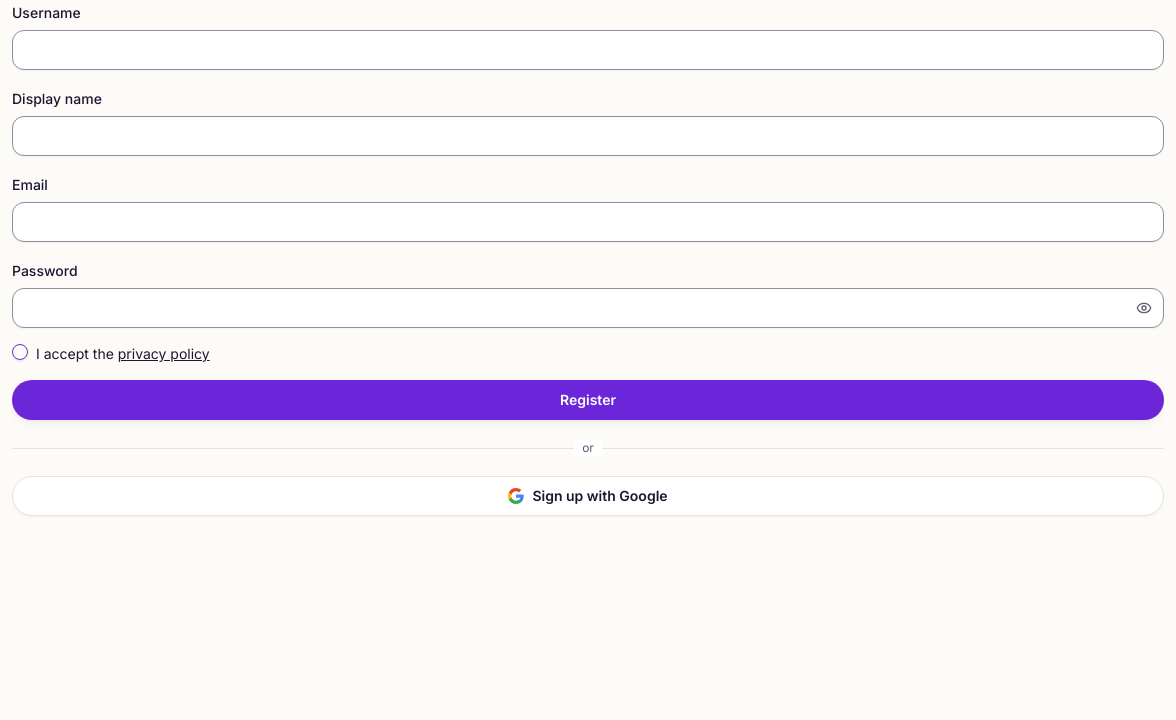
Scenario: RegisterForm › shows validation error for invalid username characters
The image size is (1176, 720).
Type "new@example.com" into the field with test id "email-input" at (588, 222), box [12,202,1164,242]
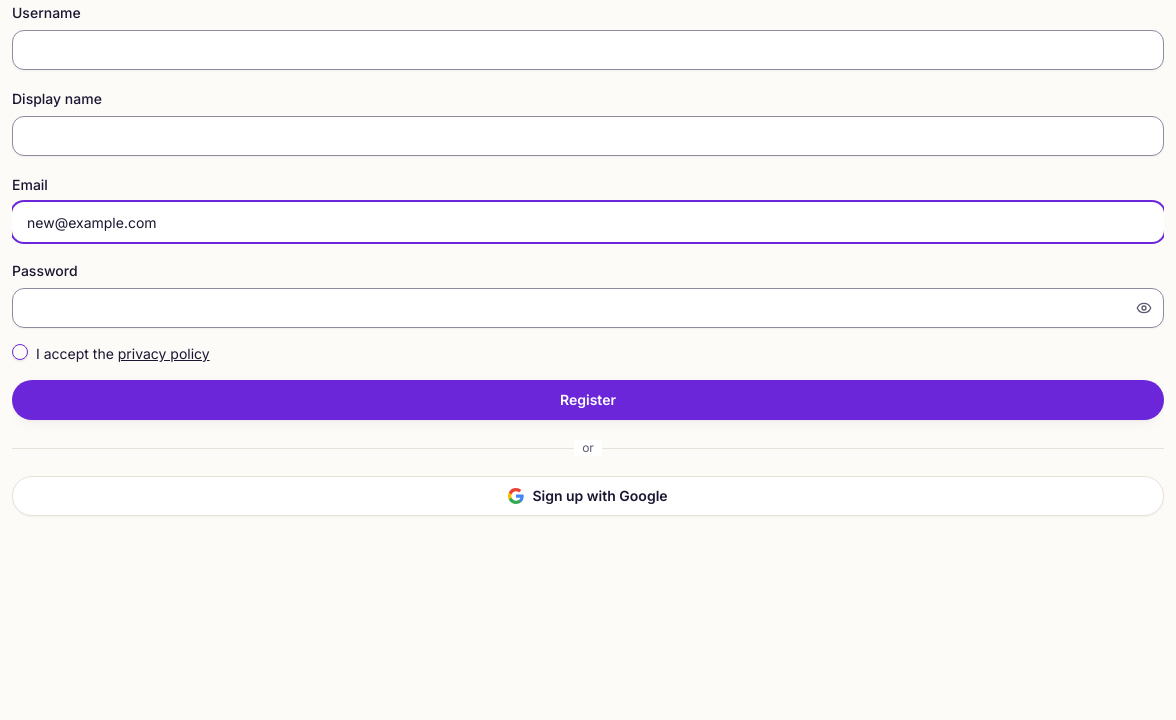
Type "New User" into the field with test id "display-name-input" at (588, 136), box [12,116,1164,156]
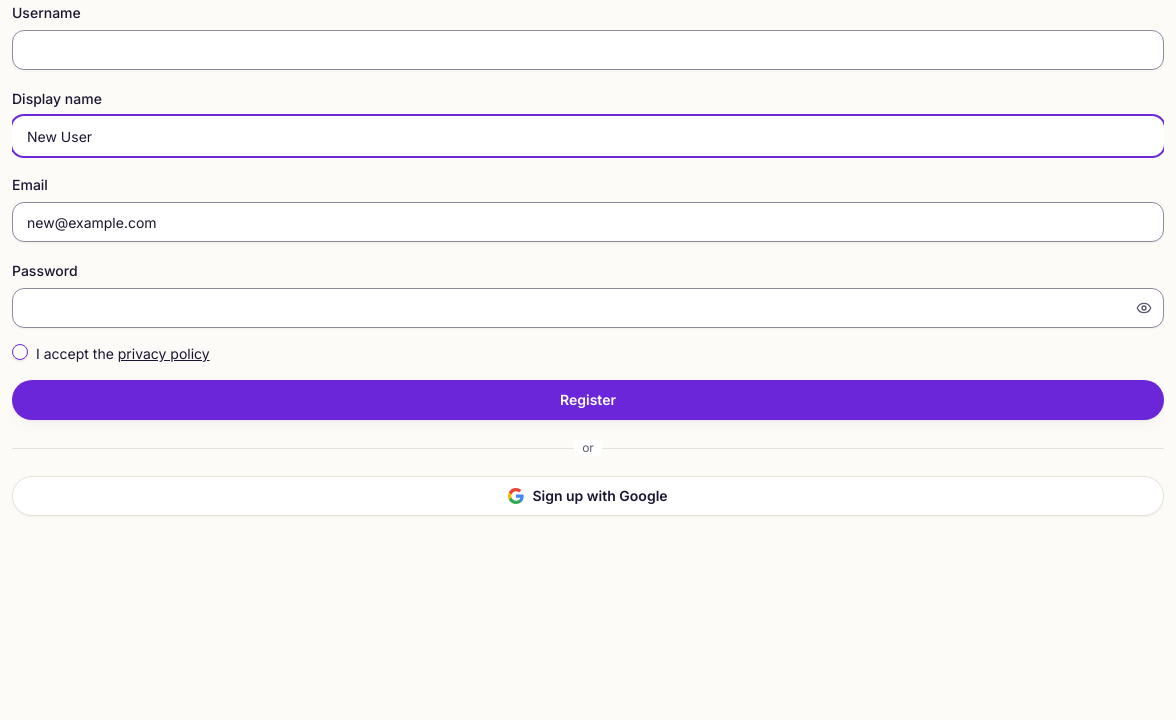
Type "invalid user!" into the field with test id "username-input" at (588, 50), box [12,30,1164,70]
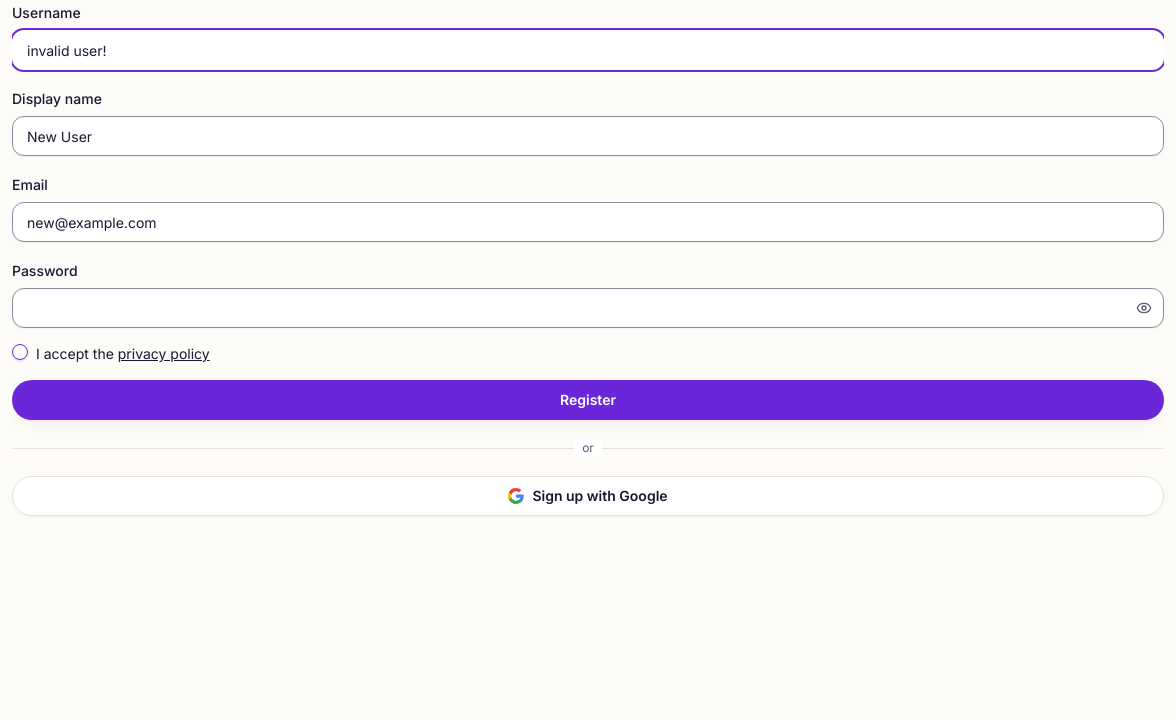
Type "password123" into the password field with test id "password-input" at (588, 308), box [12,288,1164,328]
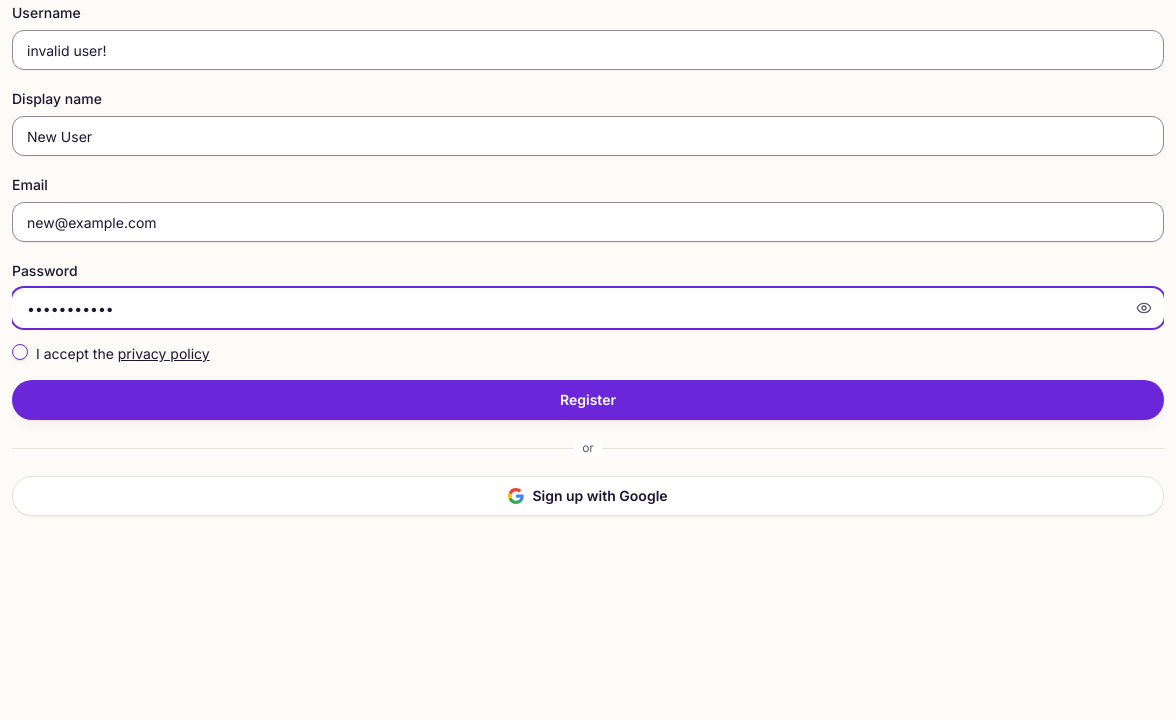
Click the checkbox with test id "accept-policy-checkbox" at (20, 352), box [12,344,28,360]
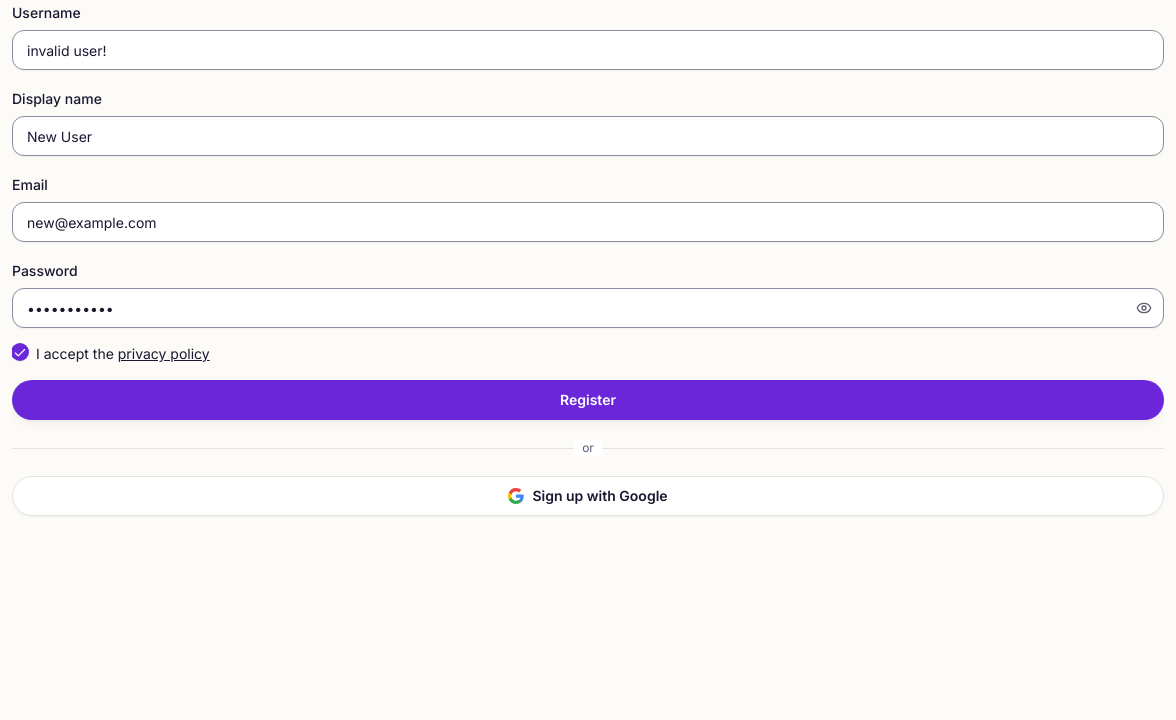
Click the button with test id "submit-button" at (588, 400), box [12,380,1164,420]
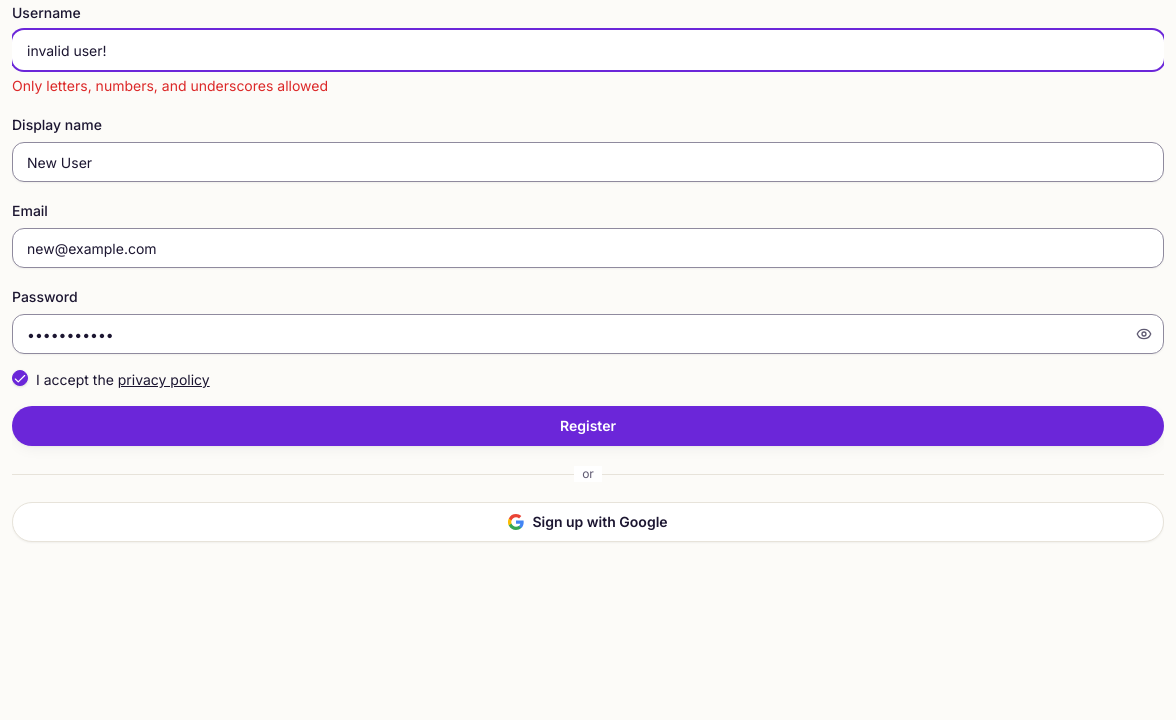
Check: the text "Only letters, numbers, and underscores allowed" is shown, box [12,77,328,94]
